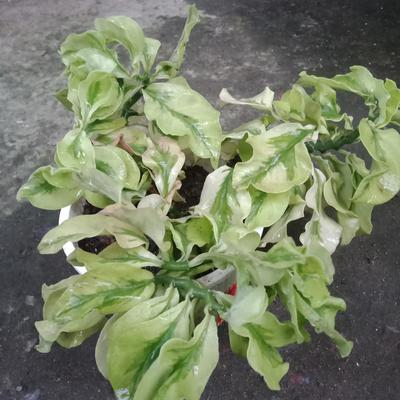Pothos plant: (50, 36, 386, 345)
